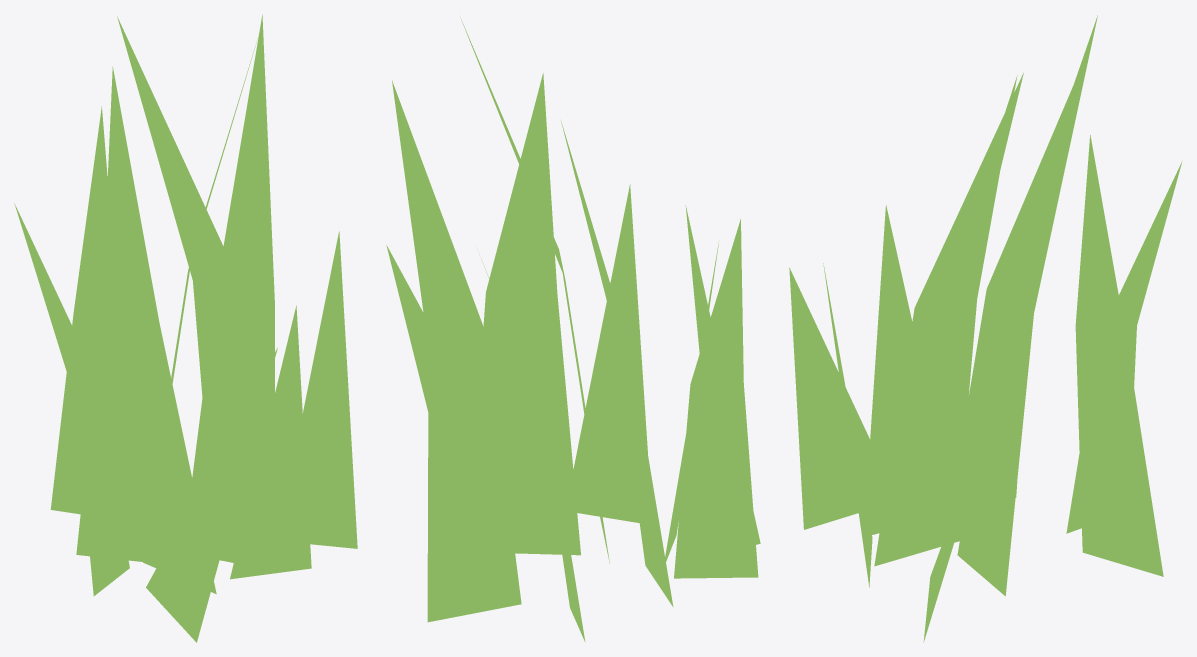
File: Grass_a_TwoS_04.fbx
3 renders of one model, left to right at view 1: azimuth 30°, elevation 25°; view 2: azimuth 150°, elevation 25°; view 3: azimuth 270°, elevation 25°, orthographic. The views are drawn at different scales.
Parts seen in each view (by area): view 1: Grass_a_TwoS_04; view 2: Grass_a_TwoS_04; view 3: Grass_a_TwoS_04.
Boxes of the visible parts, <box> form: Grass_a_TwoS_04: <box>14,14,357,642</box>; Grass_a_TwoS_04: <box>386,17,760,641</box>; Grass_a_TwoS_04: <box>789,15,1182,642</box>.
Bounding box in the file's own units: 0.4208 × 0.6387 × 0.4167.
